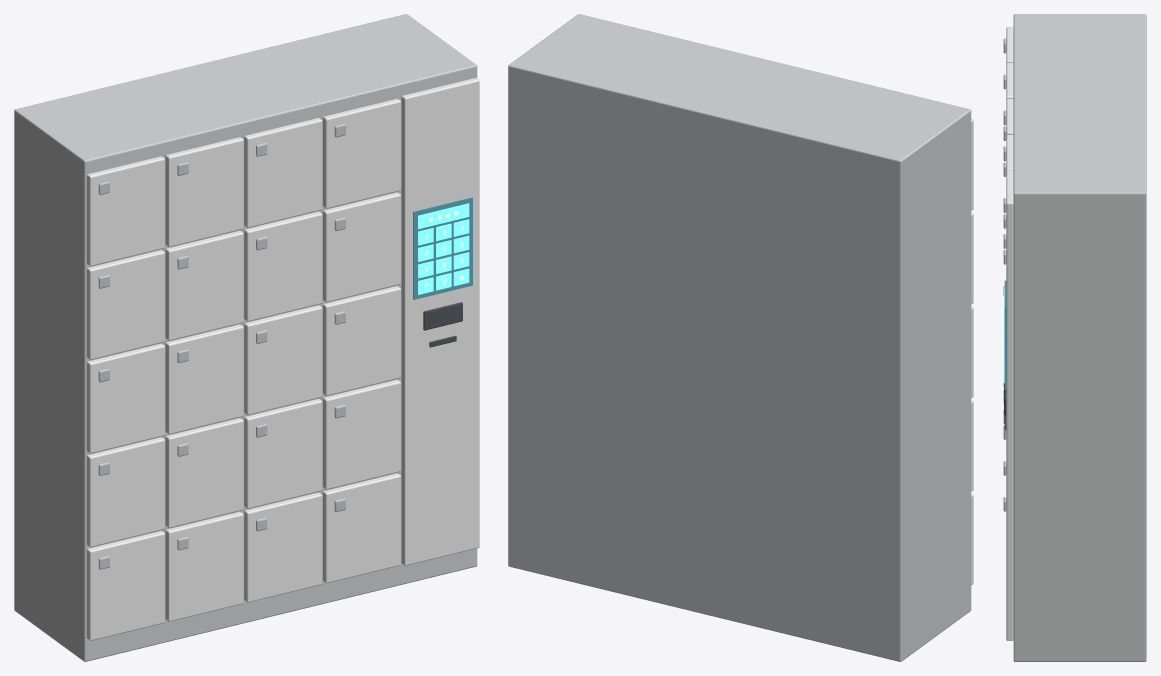
File: Locker.glb
3 renders of one model, left to right at view 1: azimuth 30°, elevation 25°; view 2: azimuth 150°, elevation 25°; view 3: azimuth 270°, elevation 25°, orthographic. The views are drawn at different scales.
Visible parts, largest first — view 1: Locker; view 2: Locker; view 3: Locker.
Boxes of the visible parts, x1,y1,x2,y2 form: Locker: (14,14,479,661); Locker: (508,14,973,661); Locker: (1002,14,1146,661).
Bounding box in the file's own units: 1.6 × 1.95 × 0.5422.
